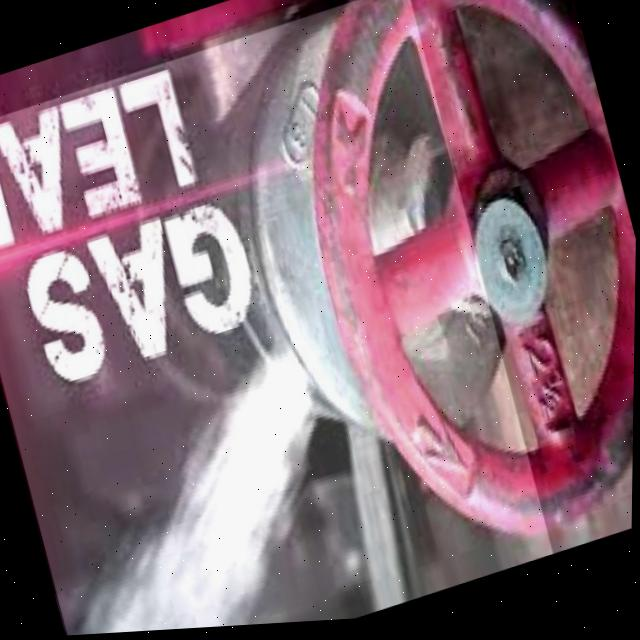corrosion: (37, 304, 421, 637)
